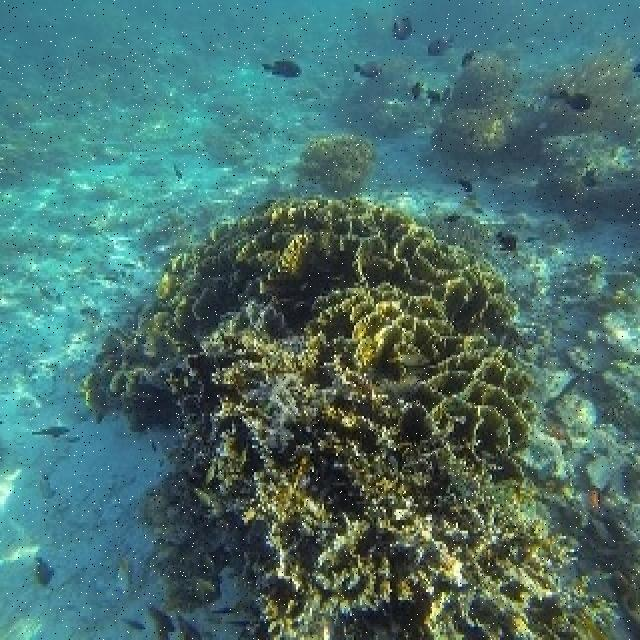aquatic plants: (84, 196, 621, 637), (303, 135, 376, 193)
fish: (258, 61, 303, 79), (428, 35, 455, 59), (391, 15, 414, 43), (493, 229, 518, 252), (352, 61, 382, 79), (462, 46, 478, 66)
sea-floor: (432, 43, 638, 211)
